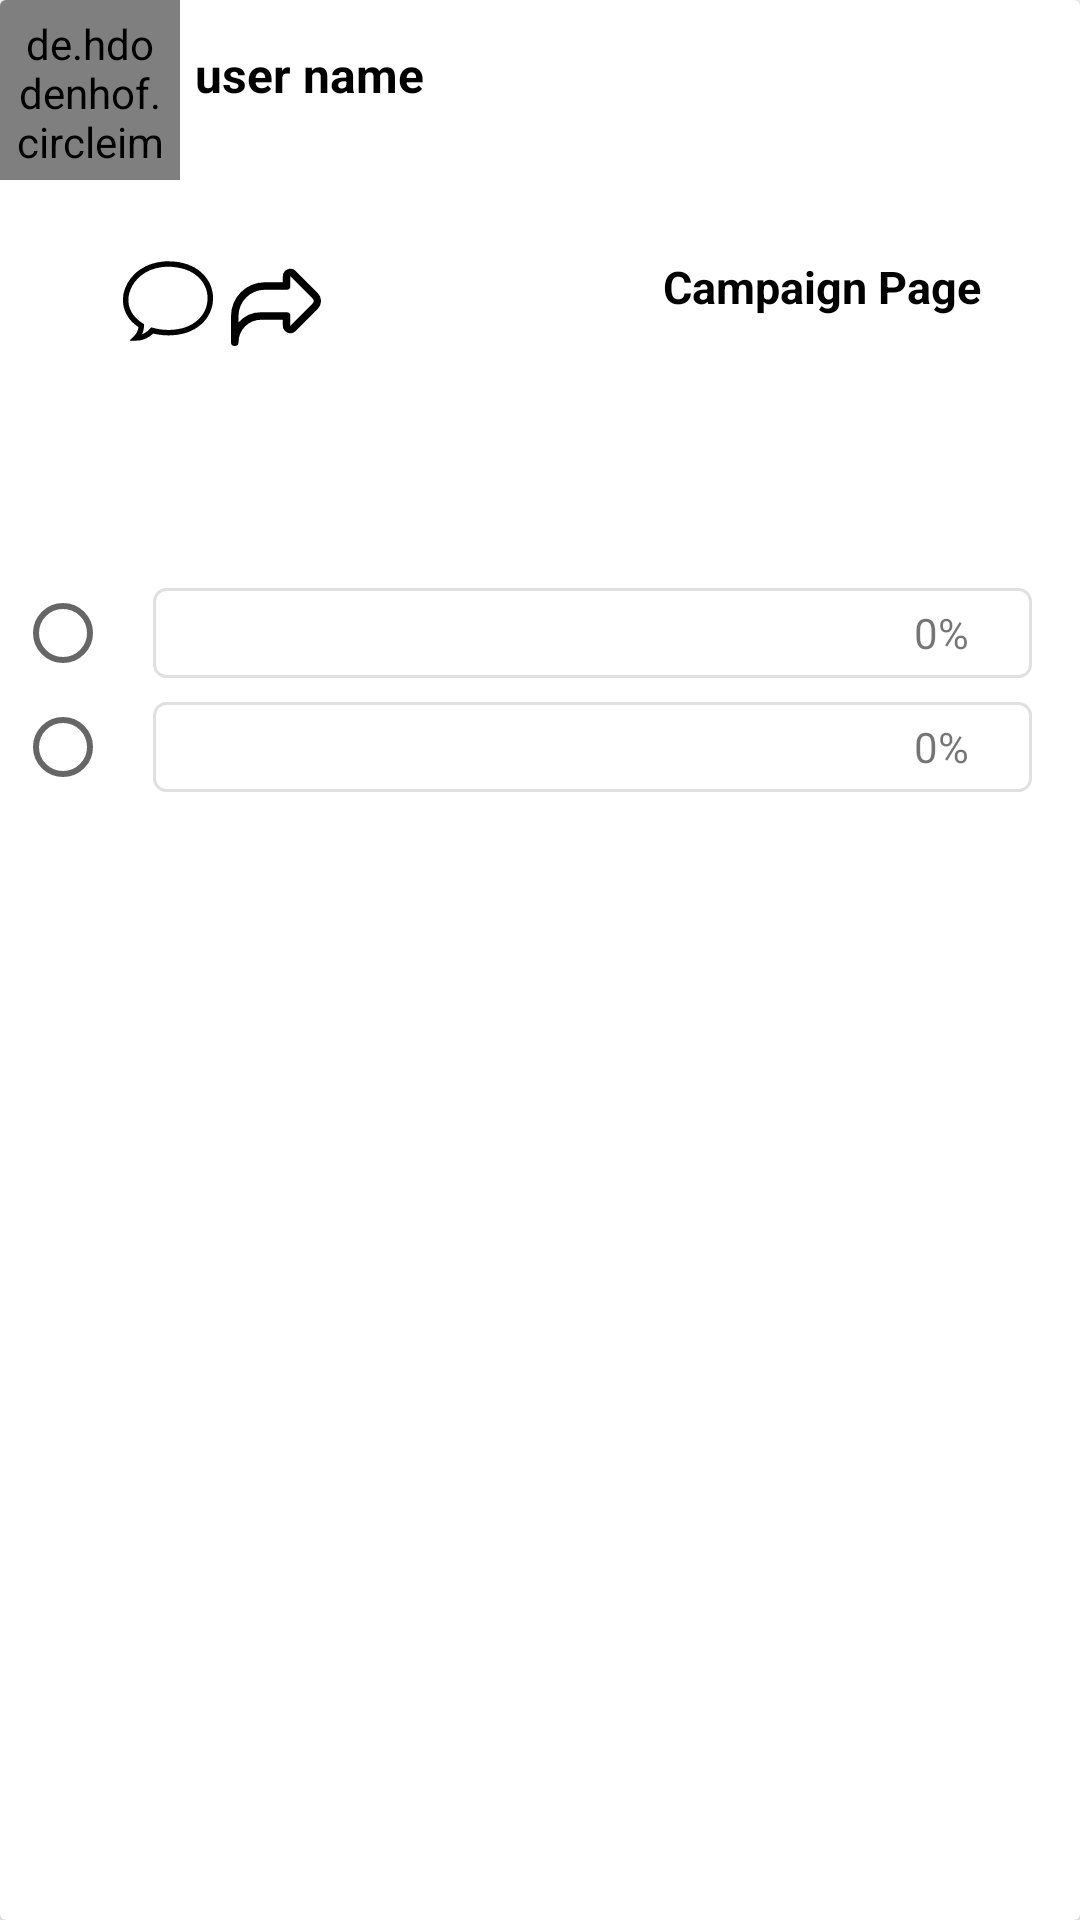

Icon bounding boxes for this 1080px×1920px phone screenshot, format BBox(x1, y1, x2, y2):
comment: BBox(123, 261, 213, 341)
share: BBox(231, 268, 321, 346)
